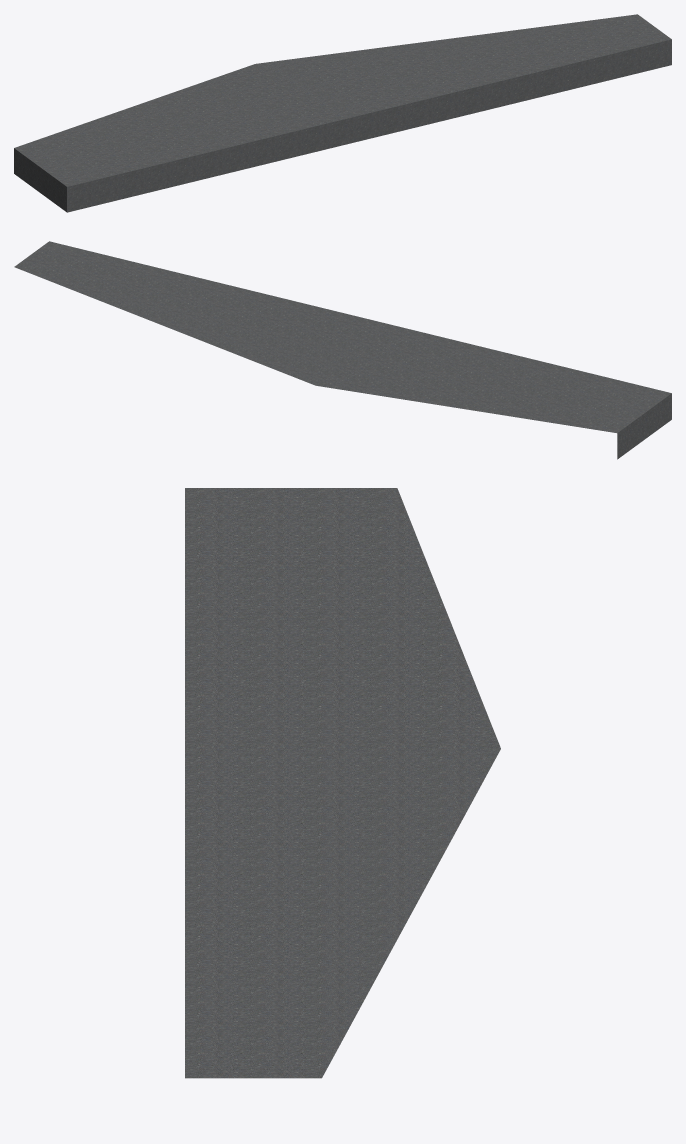
Rendered from SM_Pav_Piazzale_Fine_B2.fbx.
3 views of the same model, one above another, from view 1: azimuth 30°, elevation 25°; view 2: azimuth 150°, elevation 25°; view 3: azimuth 270°, elevation 25° (orthographic). The views are drawn at different scales.
Visible parts, largest first — view 1: SM_Pav_Piazzale_Fine_B2; view 2: SM_Pav_Piazzale_Fine_B2; view 3: SM_Pav_Piazzale_Fine_B2.
Boxes of the visible parts, box(x1,y1,x2,y2) form: SM_Pav_Piazzale_Fine_B2: box(14, 14, 671, 212); SM_Pav_Piazzale_Fine_B2: box(14, 241, 671, 459); SM_Pav_Piazzale_Fine_B2: box(185, 488, 500, 1078).
Size of what is drawn, in the model's own units: 7391 by 1673 by 300.
1 material, 1 textured.
